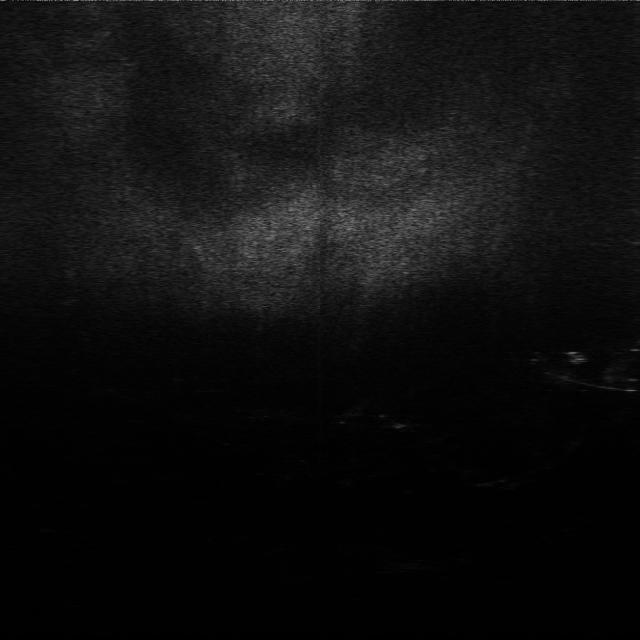rov: (563, 347, 592, 368)
